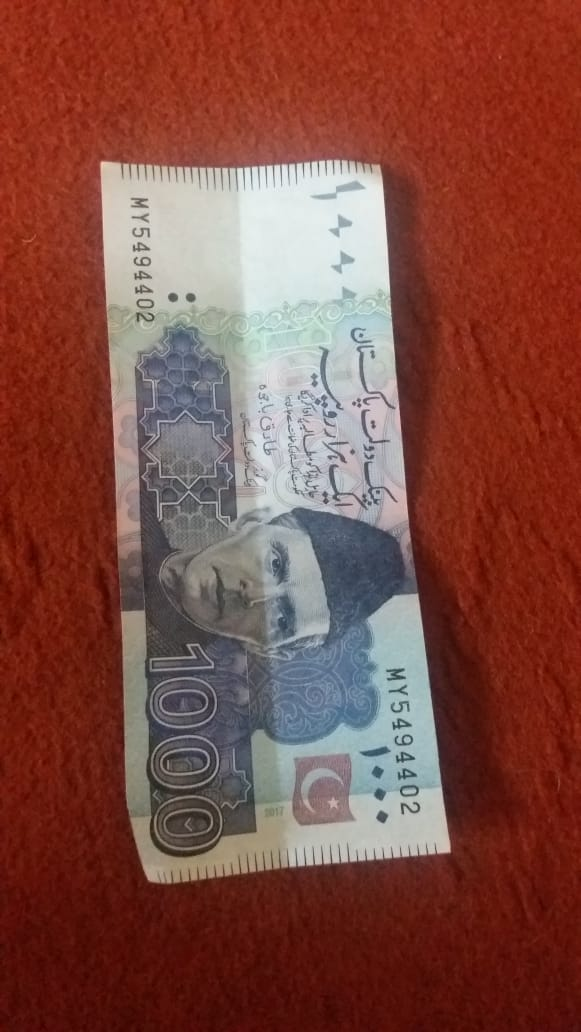1000 rupee: (75, 134, 460, 891)
